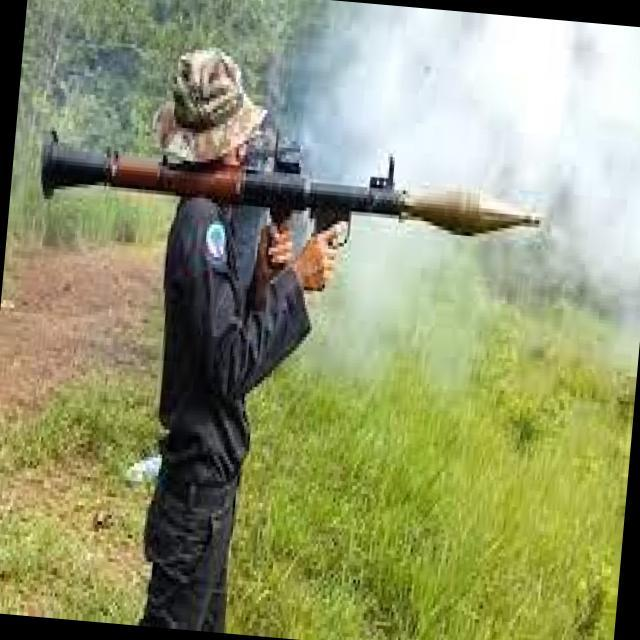rocket: (38, 128, 548, 240)
